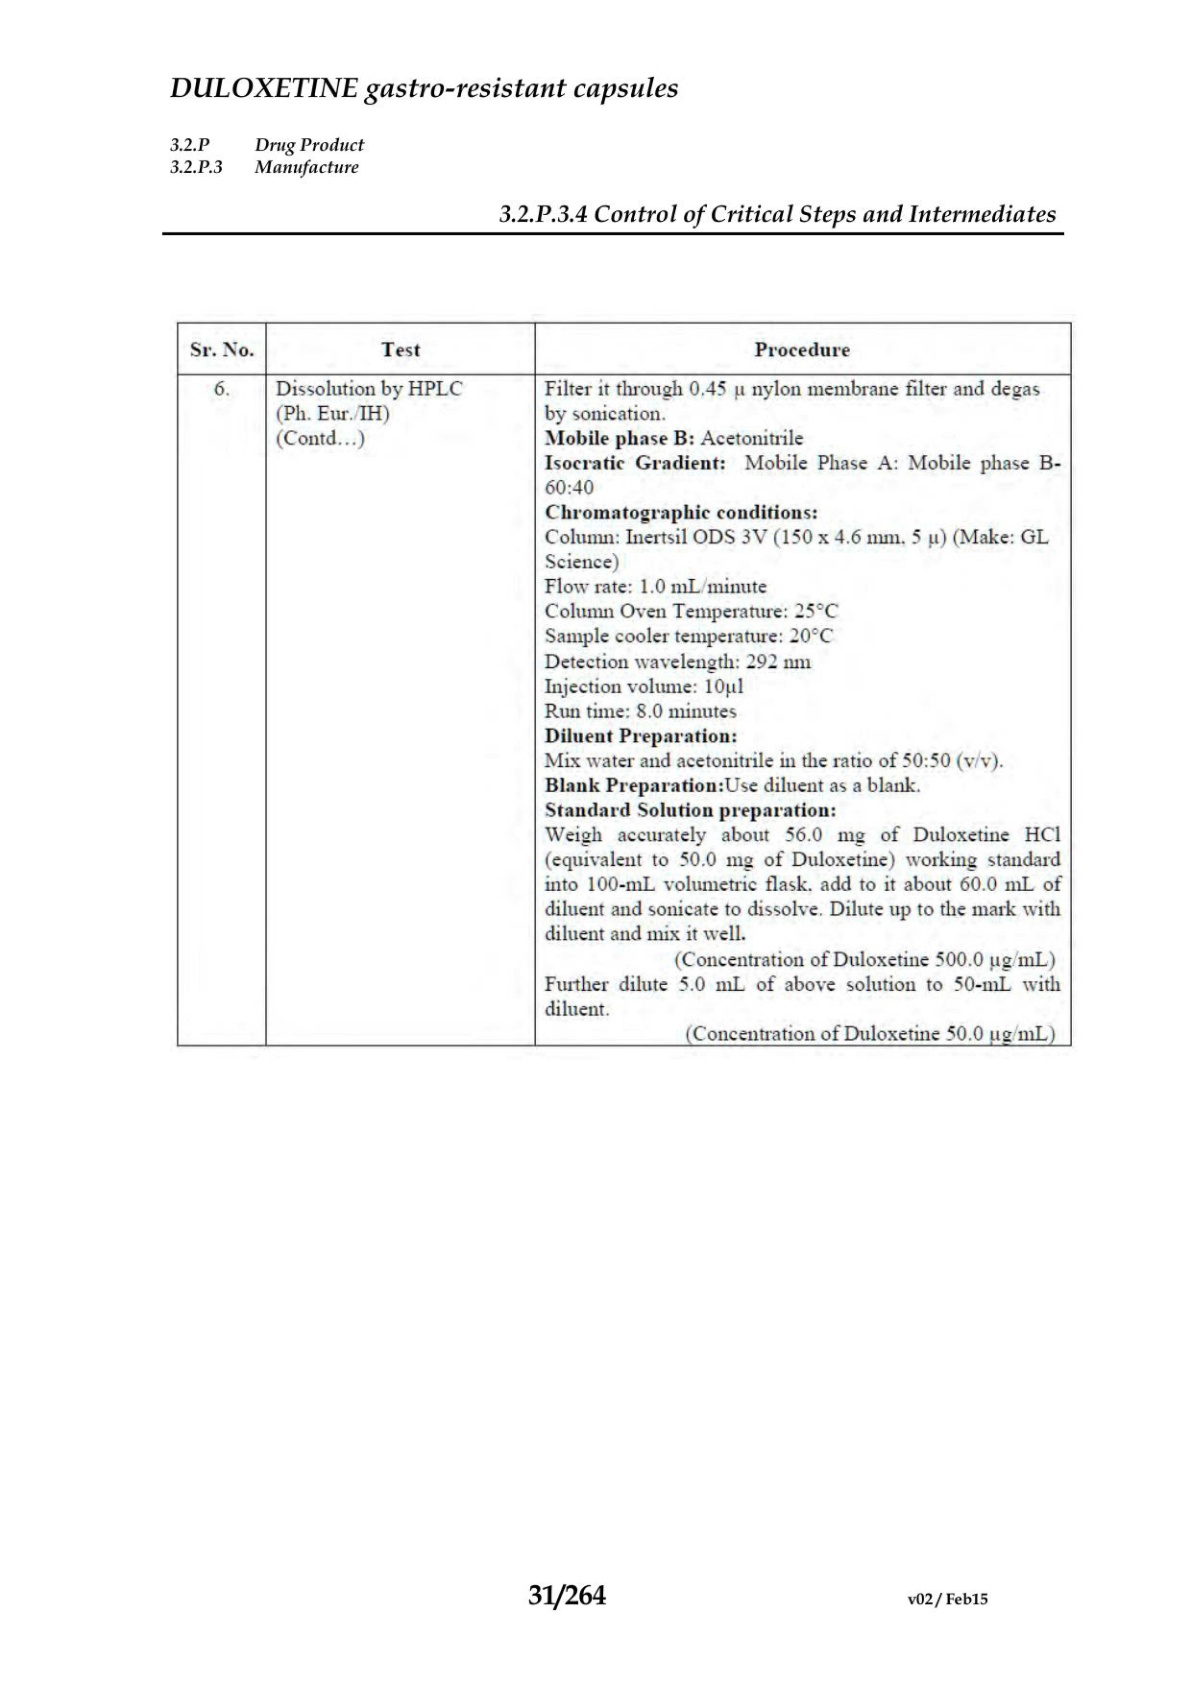full_lined: (175, 321, 1072, 1048)
